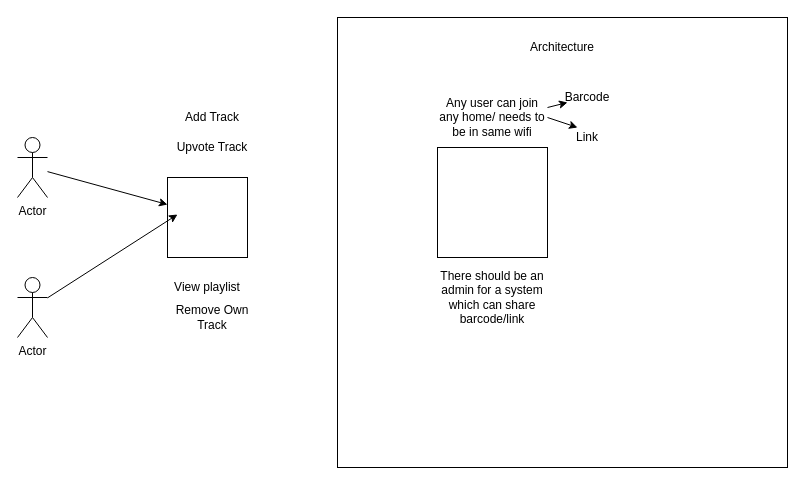
Some shapes in this 805 by 485 pixel diagram are drawn without their labels. The box of each missing label's shape, as (x1, y1, x2, y2) in pixels:
API: (166, 176, 248, 258)
System (Each HomePage per home): (436, 146, 548, 258)
